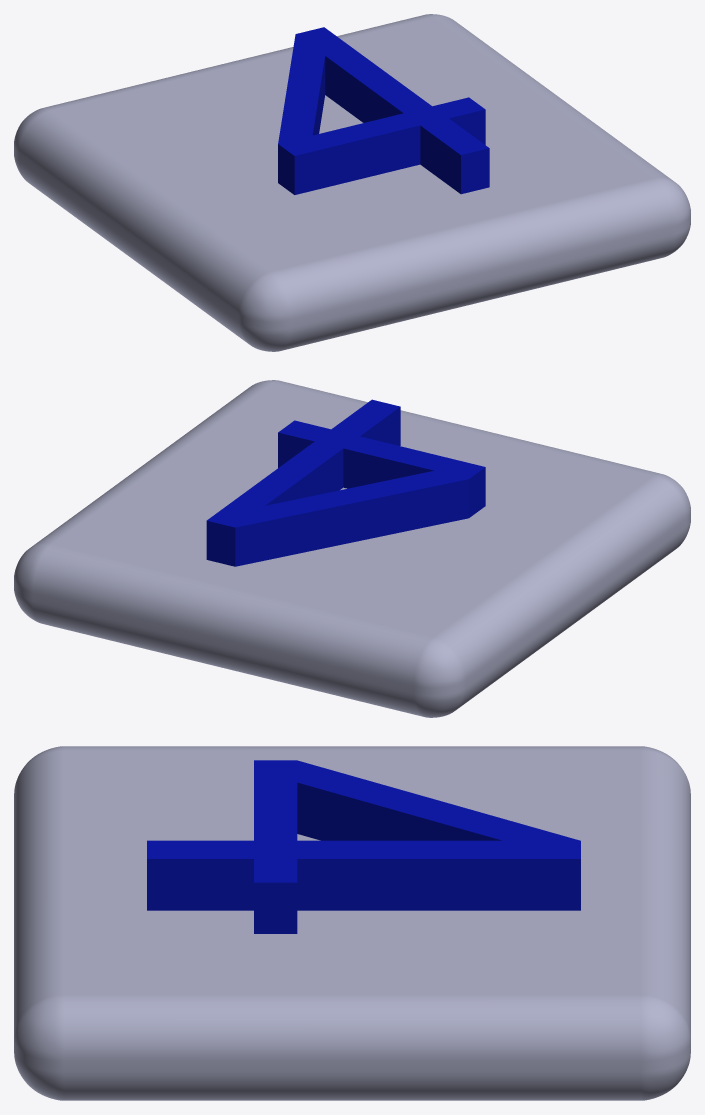
File: button4.glb
The picture shows the model from 3 angles, top to bottom: view 1: azimuth 30°, elevation 25°; view 2: azimuth 150°, elevation 25°; view 3: azimuth 270°, elevation 25°; orthographic projection. The views are drawn at different scales.
Visible parts, largest first — view 1: Box, 3D Text - 4; view 2: Box, 3D Text - 4; view 3: Box, 3D Text - 4.
Part boxes in pixels (x1,y1,x2,y2): Box: (14, 14, 690, 351); 3D Text - 4: (278, 27, 489, 194); Box: (14, 380, 690, 717); 3D Text - 4: (206, 399, 485, 566); Box: (14, 746, 690, 1100); 3D Text - 4: (147, 760, 580, 933).
Size of the model in its own units: 0.1 by 0.0249 by 0.1.
